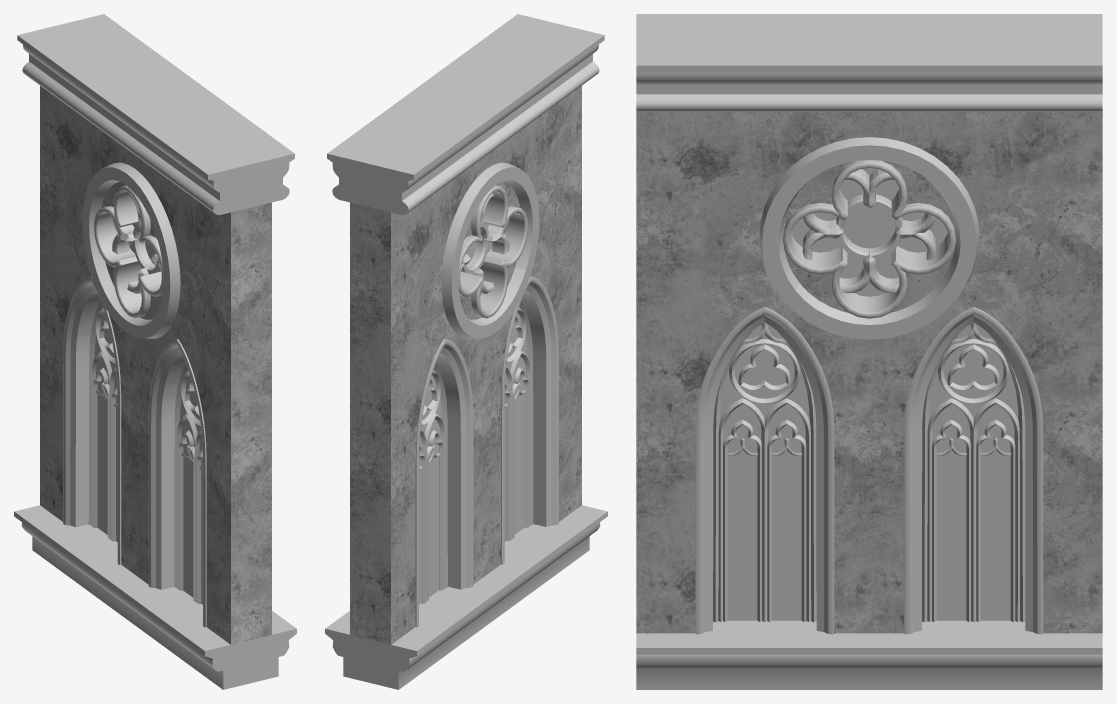
The model's file is SM_HallwayWall_04b.fbx.
3 renders of one model, left to right at view 1: azimuth 30°, elevation 25°; view 2: azimuth 150°, elevation 25°; view 3: azimuth 270°, elevation 25°, orthographic. The views are drawn at different scales.
Visible parts, largest first — view 1: SM_HallwayWall_04b_LOD0; view 2: SM_HallwayWall_04b_LOD0; view 3: SM_HallwayWall_04b_LOD0.
Boxes of the visible parts, left/top/right/bottom form: SM_HallwayWall_04b_LOD0: left=14, top=14, right=296, bottom=689; SM_HallwayWall_04b_LOD0: left=325, top=14, right=607, bottom=689; SM_HallwayWall_04b_LOD0: left=636, top=14, right=1102, bottom=689.
Bounding box in the file's own units: 222 × 800 × 1200.
